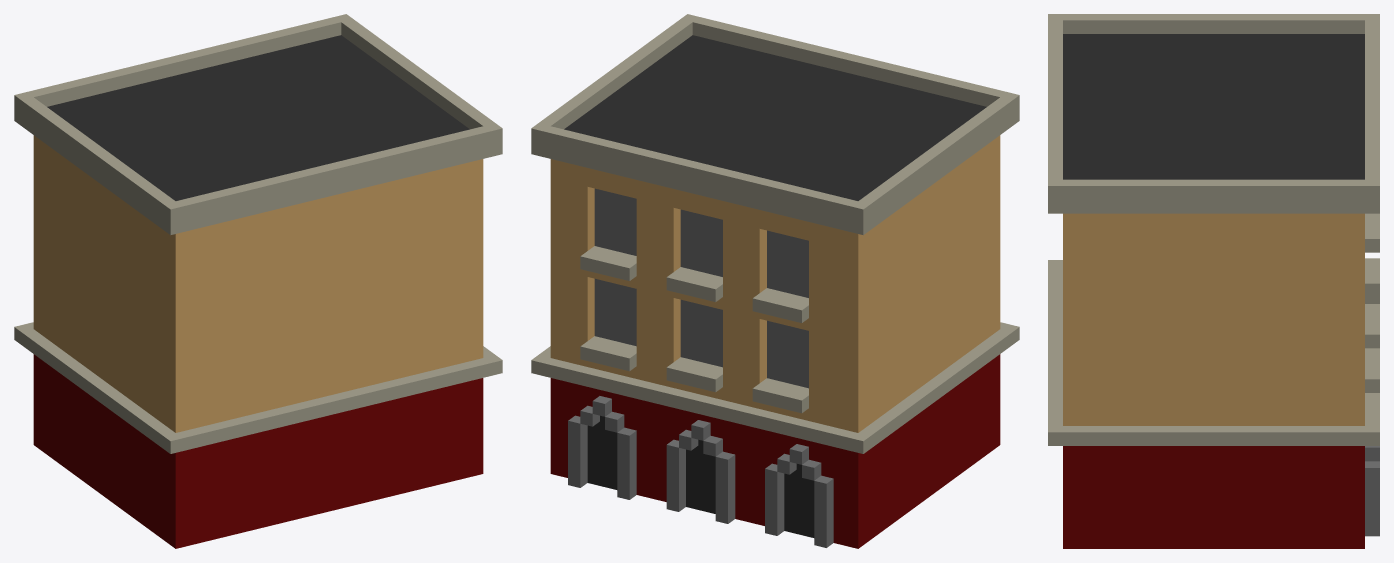
The model's file is City Biulding 1.obj.
3 views of the same model, side by side, from view 1: azimuth 30°, elevation 25°; view 2: azimuth 150°, elevation 25°; view 3: azimuth 270°, elevation 25° (orthographic). The views are drawn at different scales.
Visible parts, largest first — view 1: City Biulding 1; view 2: City Biulding 1; view 3: City Biulding 1.
Boxes of the visible parts, x1,y1,x2,y2 form: City Biulding 1: (14, 14, 502, 548); City Biulding 1: (531, 14, 1019, 548); City Biulding 1: (1048, 14, 1379, 548).
Bounding box in the file's own units: 27 × 27 × 22.
1 material, 1 textured.
